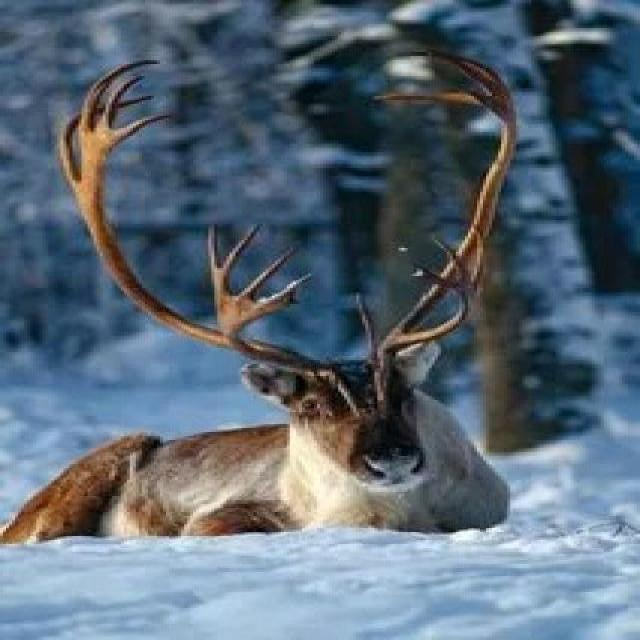deer: (0, 93, 640, 607)
